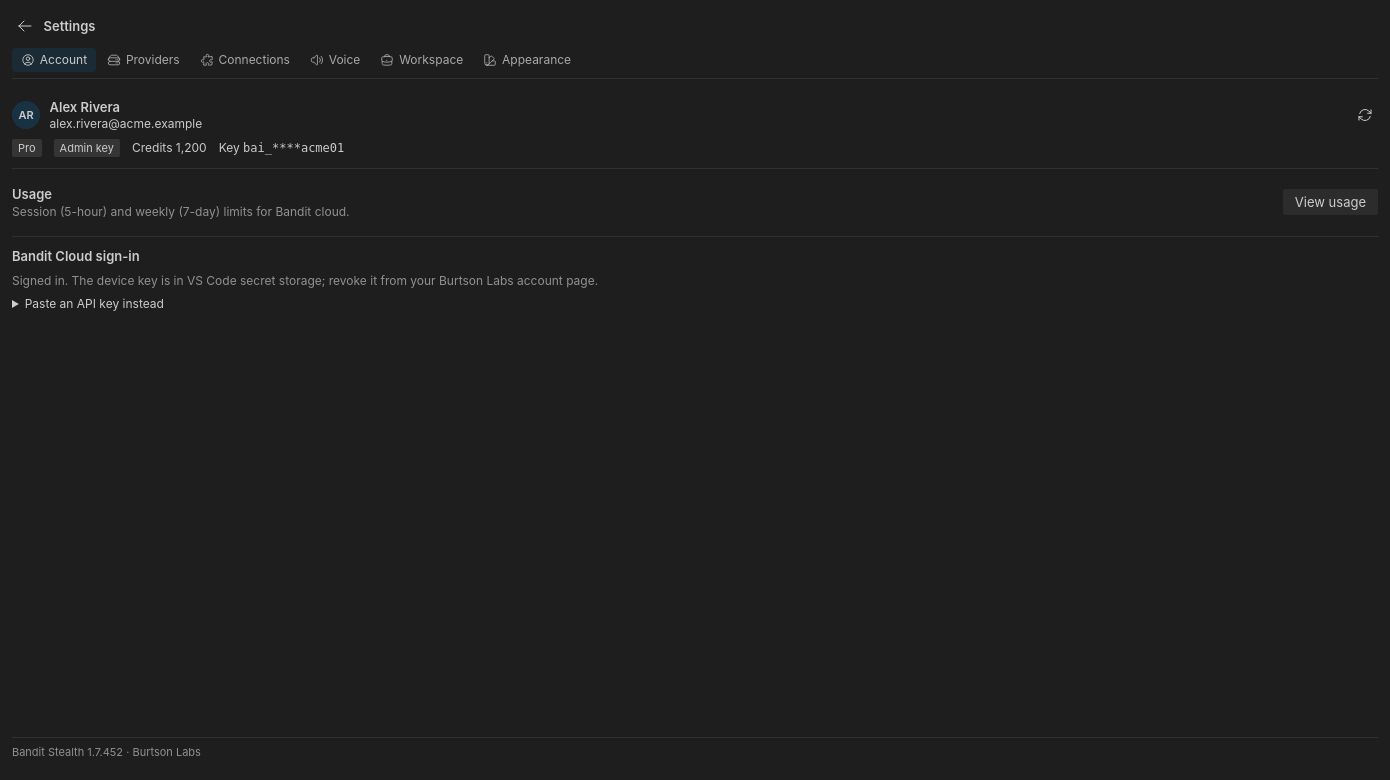
Test: settings section switcher › switches section on click
Step 1. Click the tab "Appearance" → (527, 60), box [474,48,580,72]
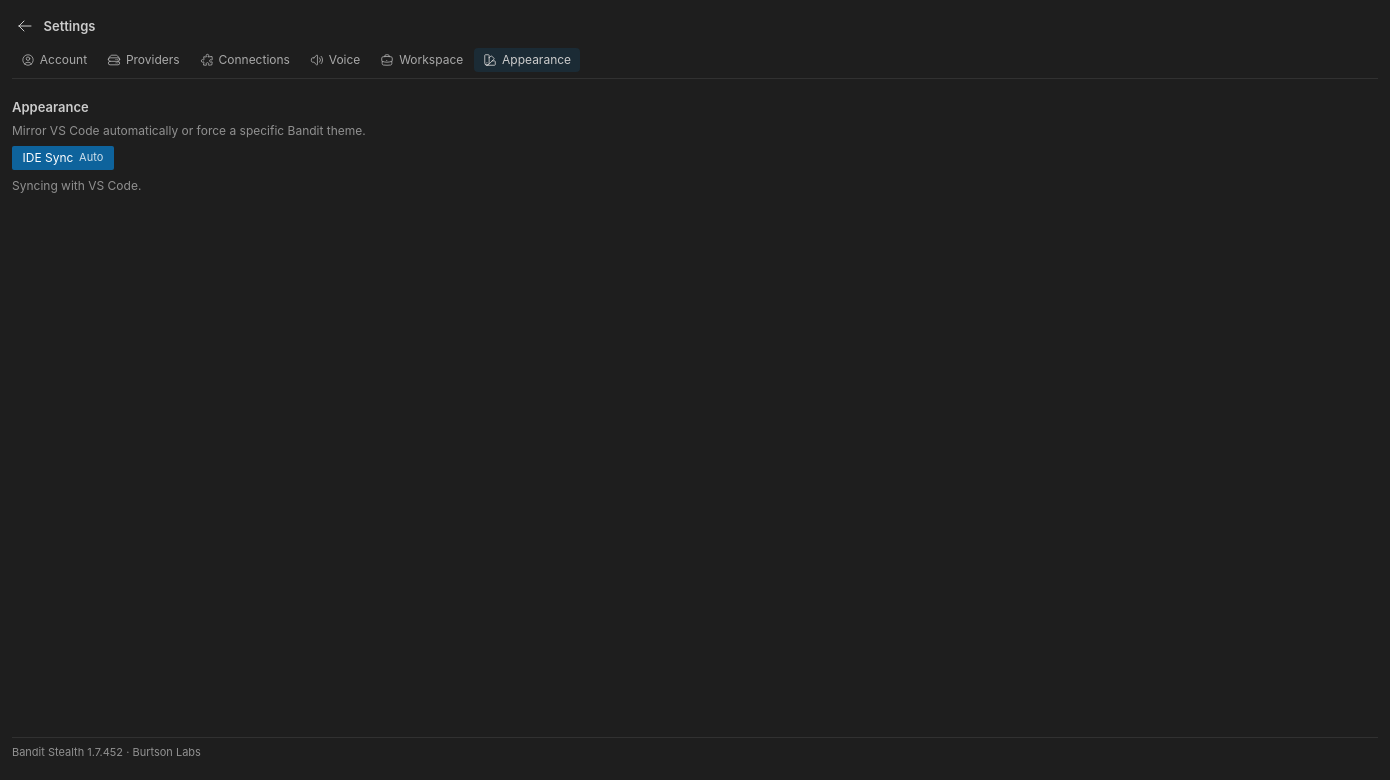
expect the heading "Appearance" is shown: met, box [12,99,89,115]
